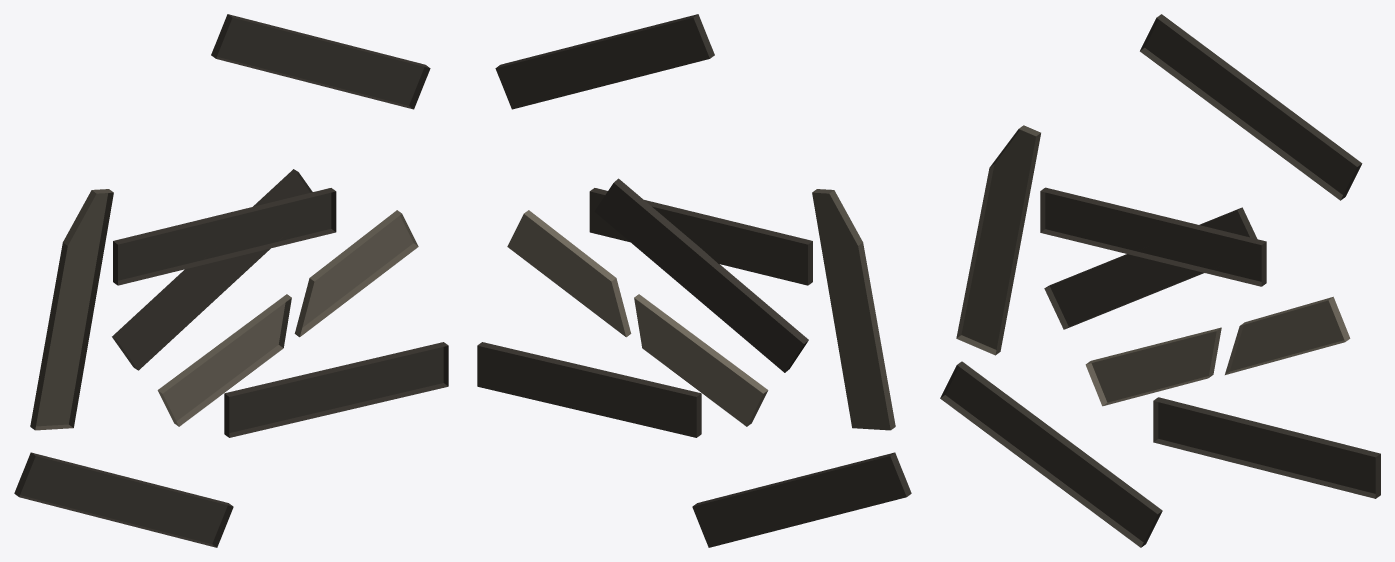
The model's file is Wooden Plane 01.FBX.
3 renders of one model, left to right at view 1: azimuth 30°, elevation 25°; view 2: azimuth 150°, elevation 25°; view 3: azimuth 330°, elevation 25°, orthographic.
Visible parts, largest first — view 1: Wooden Plane 01; view 2: Wooden Plane 01; view 3: Wooden Plane 01.
Part boxes in pixels (left/top/right/bottom): Wooden Plane 01: left=14, top=14, right=448, bottom=547; Wooden Plane 01: left=477, top=14, right=911, bottom=547; Wooden Plane 01: left=940, top=14, right=1380, bottom=547.
Bounding box in the file's own units: 246 × 11.76 × 288.
